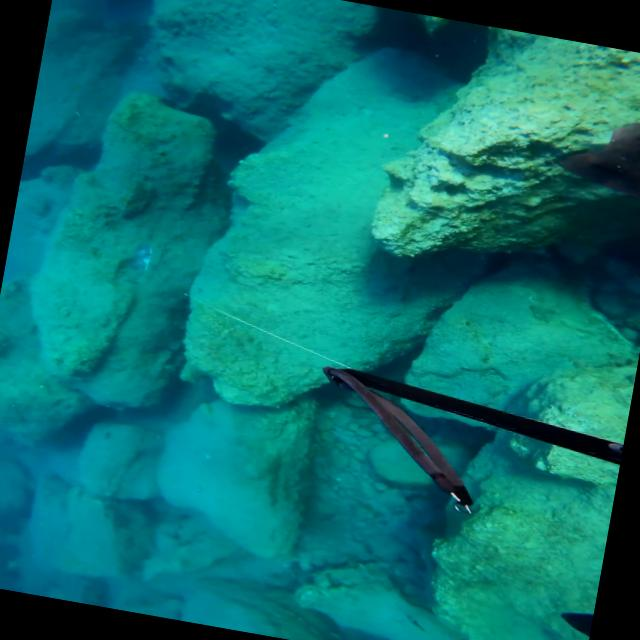Balon Baligi: (121, 240, 152, 286)
